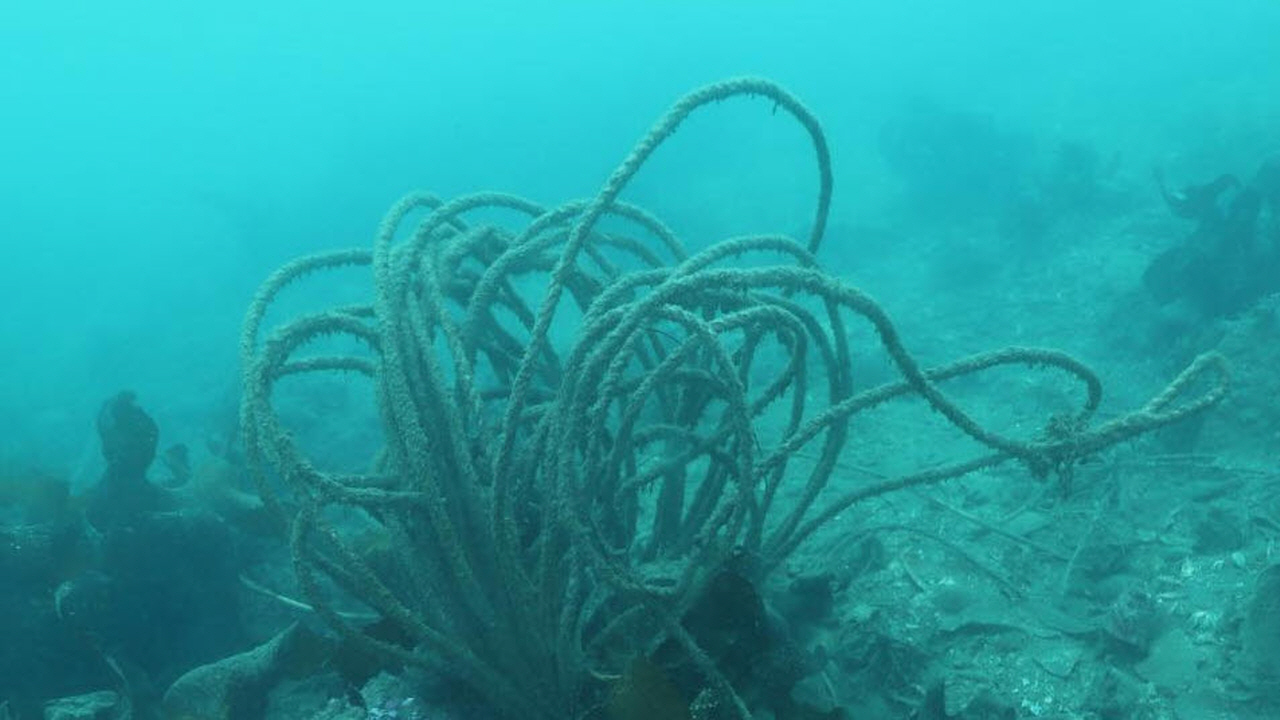bundle of ropes: (231, 76, 1238, 720)
